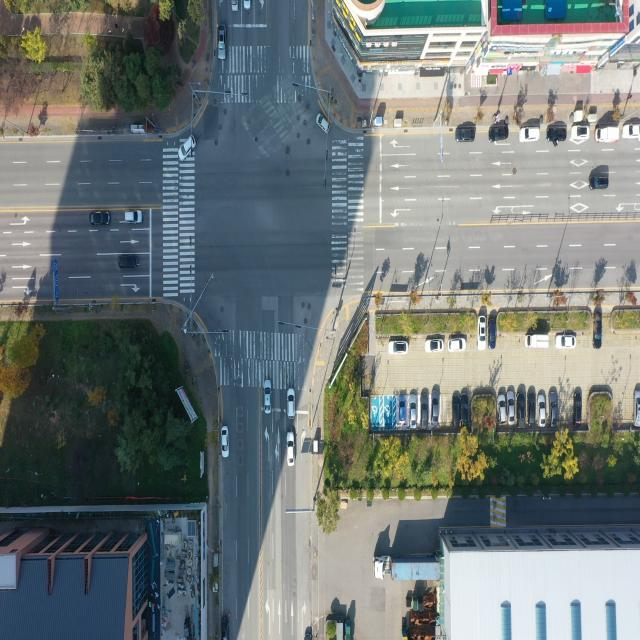car: (178, 136, 197, 161), (489, 128, 509, 144), (265, 380, 274, 414), (479, 316, 488, 350), (456, 129, 475, 145), (593, 310, 601, 348), (90, 211, 110, 226), (556, 335, 576, 350), (388, 341, 408, 356), (506, 391, 515, 424), (527, 392, 536, 424), (521, 128, 540, 143), (549, 128, 568, 143), (118, 254, 138, 268), (488, 317, 497, 348), (623, 124, 640, 140), (287, 433, 295, 467), (431, 389, 439, 423), (590, 176, 608, 191), (421, 392, 429, 425), (538, 394, 546, 427), (220, 428, 228, 460), (550, 390, 558, 422), (453, 395, 461, 427), (449, 338, 466, 353), (126, 210, 144, 224), (571, 127, 589, 141), (462, 393, 469, 429), (426, 340, 443, 354), (219, 26, 226, 60), (317, 114, 330, 132), (219, 615, 228, 640), (519, 391, 526, 423), (634, 392, 640, 429), (287, 388, 294, 419), (574, 392, 581, 423), (498, 393, 505, 423), (411, 400, 418, 429), (398, 398, 405, 424), (241, 0, 250, 11), (233, 0, 241, 11)
large_truck: (372, 555, 442, 584)
small_truck: (525, 334, 550, 350), (595, 127, 619, 143)
